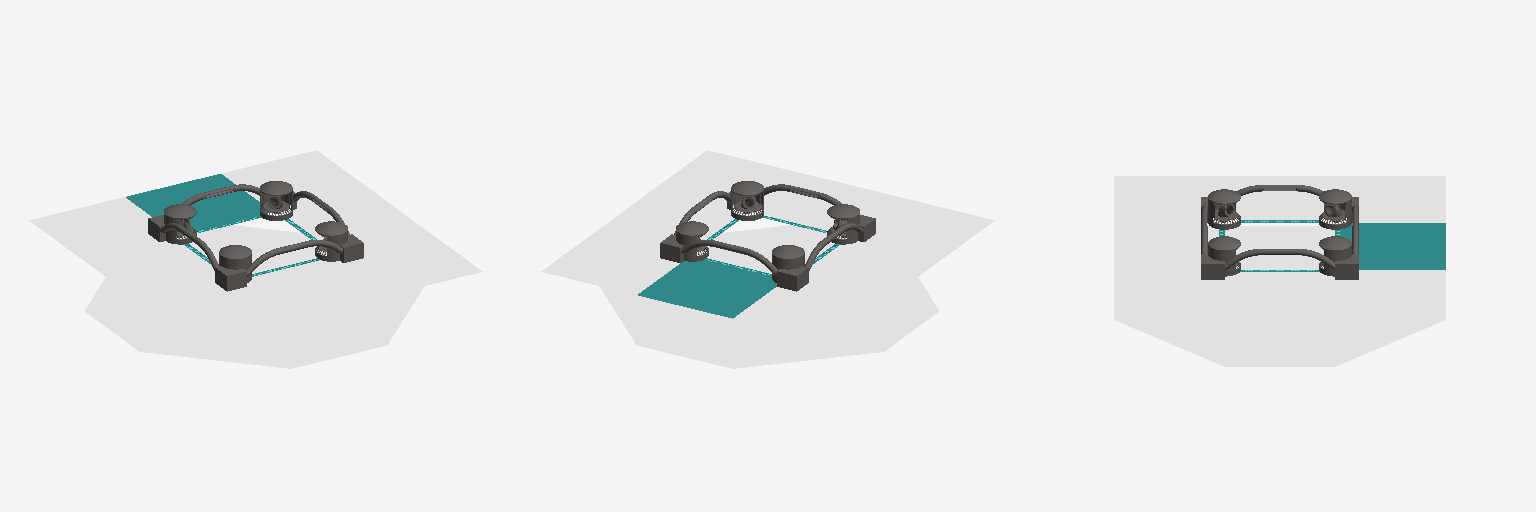
Rendered from cenario.obj.
3 renders of one model, left to right at view 1: azimuth 30°, elevation 25°; view 2: azimuth 150°, elevation 25°; view 3: azimuth 270°, elevation 25°, orthographic.
Parts seen in each view (by area): view 1: Mesh9 Group10 Model, Mesh3 Group4 Group1 Model, Mesh5 Group6 Group1 Model, Mesh4 Group5 Group1 Model, Mesh1 Group2 Group1 Model, Mesh2 Group3 Group1 Model, Mesh7 Group8 Group1 Model, Mesh6 Group7 Group1 Model, Mesh8 Group9 Group1 Model, Mesh47 Group50 Group42 Group41 Component_2_3 Model; view 2: Mesh9 Group10 Model, Mesh1 Group2 Group1 Model, Mesh7 Group8 Group1 Model, Mesh8 Group9 Group1 Model, Mesh3 Group4 Group1 Model, Mesh2 Group3 Group1 Model, Mesh5 Group6 Group1 Model, Mesh6 Group7 Group1 Model, Mesh4 Group5 Group1 Model, Mesh62 Group65 Group57 Group56 Component_2_4 Model; view 3: Mesh9 Group10 Model, Mesh5 Group6 Group1 Model, Mesh7 Group8 Group1 Model, Mesh6 Group7 Group1 Model, Mesh1 Group2 Group1 Model, Mesh3 Group4 Group1 Model, Mesh4 Group5 Group1 Model, Mesh8 Group9 Group1 Model, Mesh2 Group3 Group1 Model, Mesh17 Group20 Group12 Group11 Component_2_1 Model, Mesh32 Group35 Group27 Group26 Component_2_2 Model.
Boxes of the visible parts, box(x1,y1,x2,y2) form: Mesh9 Group10 Model: box(85, 225, 424, 368); Mesh3 Group4 Group1 Model: box(140, 283, 290, 341); Mesh5 Group6 Group1 Model: box(344, 231, 482, 294); Mesh4 Group5 Group1 Model: box(247, 260, 385, 318); Mesh1 Group2 Group1 Model: box(29, 197, 159, 260); Mesh2 Group3 Group1 Model: box(85, 241, 214, 300); Mesh7 Group8 Group1 Model: box(221, 150, 371, 212); Mesh6 Group7 Group1 Model: box(282, 191, 426, 246); Mesh8 Group9 Group1 Model: box(126, 174, 271, 230); Mesh47 Group50 Group42 Group41 Component_2_3 Model: box(215, 266, 246, 291); Mesh9 Group10 Model: box(599, 225, 938, 368); Mesh1 Group2 Group1 Model: box(733, 283, 883, 341); Mesh7 Group8 Group1 Model: box(541, 231, 679, 294); Mesh8 Group9 Group1 Model: box(638, 260, 776, 318); Mesh3 Group4 Group1 Model: box(864, 197, 994, 260); Mesh2 Group3 Group1 Model: box(809, 241, 938, 300); Mesh5 Group6 Group1 Model: box(652, 150, 802, 212); Mesh6 Group7 Group1 Model: box(597, 191, 741, 246); Mesh4 Group5 Group1 Model: box(752, 174, 897, 230); Mesh62 Group65 Group57 Group56 Component_2_4 Model: box(777, 266, 808, 291); Mesh9 Group10 Model: box(1114, 226, 1445, 366); Mesh5 Group6 Group1 Model: box(1114, 270, 1224, 315); Mesh7 Group8 Group1 Model: box(1335, 270, 1445, 315); Mesh6 Group7 Group1 Model: box(1225, 272, 1334, 315); Mesh1 Group2 Group1 Model: box(1335, 176, 1445, 222); Mesh3 Group4 Group1 Model: box(1114, 176, 1224, 222); Mesh4 Group5 Group1 Model: box(1114, 223, 1218, 269); Mesh8 Group9 Group1 Model: box(1341, 223, 1445, 269); Mesh2 Group3 Group1 Model: box(1225, 176, 1334, 219); Mesh17 Group20 Group12 Group11 Component_2_1 Model: box(1335, 254, 1358, 279); Mesh32 Group35 Group27 Group26 Component_2_2 Model: box(1201, 254, 1224, 279).
Size of the model in its own units: 30 by 8.04 by 30.